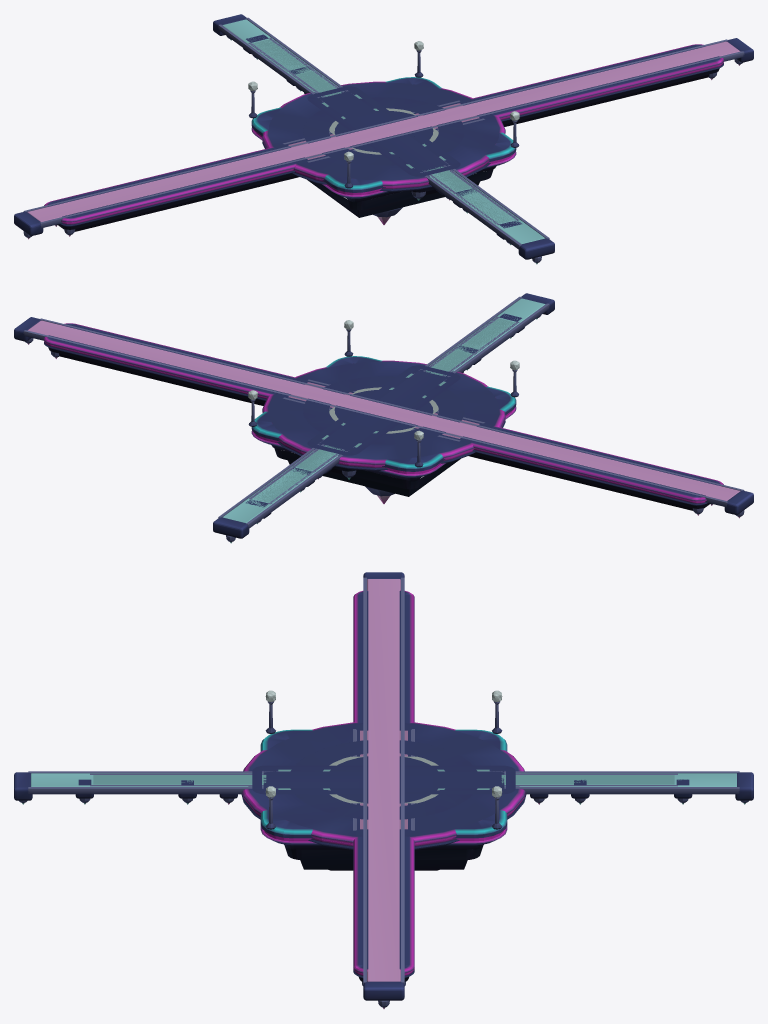
File: core-1-VSdwqLt4.glb
3 views of the same model, one above another, from view 1: azimuth 30°, elevation 25°; view 2: azimuth 150°, elevation 25°; view 3: azimuth 270°, elevation 25° (orthographic). The views are drawn at different scales.
Parts seen in each view (by area): view 1: beam_48x1.5x2#1, block_44x2x3#1, disc_14x1.5#1, beam_2x1.5x36#1, pad_12x2x12#0, block_4x2x13.5#0, disc_10x1.5#1, beam_1.5x1x30#0, block_44x2x2.5_grate#0, beam_1.5x1x20#1, beam_13.100000000000364x1.5x3#0; view 2: beam_48x1.5x2#1, block_44x2x3#1, disc_14x1.5#1, beam_2x1.5x36#1, pad_12x2x12#0, block_4x2x13.5#0, disc_10x1.5#1, beam_1.5x1x30#0, block_44x2x2.5_grate#0, beam_1.5x1x20#1, beam_13.100000000000364x1.5x3#0; view 3: beam_48x1.5x2#1, disc_14x1.5#1, beam_2x1.5x36#1, pad_12x2x12#0, block_4x2x13.5#0, disc_10x1.5#1, block_44x2x3#1, beam_1.5x1x30#0, block_44x2x2.5_grate#0, beam_13.100000000000364x1.5x3#0.
Part boxes in pixels (x1,y1,x2,y2): beam_48x1.5x2#1: [14, 38, 753, 239]; block_44x2x3#1: [44, 44, 724, 236]; disc_14x1.5#1: [262, 81, 505, 224]; beam_2x1.5x36#1: [213, 14, 554, 264]; pad_12x2x12#0: [248, 41, 519, 217]; block_4x2x13.5#0: [307, 86, 460, 200]; disc_10x1.5#1: [303, 97, 464, 165]; beam_1.5x1x30#0: [243, 34, 521, 244]; block_44x2x2.5_grate#0: [48, 46, 719, 217]; beam_1.5x1x20#1: [286, 66, 476, 213]; beam_13.100000000000364x1.5x3#0: [275, 99, 491, 163]; beam_48x1.5x2#1: [14, 317, 753, 518]; block_44x2x3#1: [43, 323, 723, 515]; disc_14x1.5#1: [262, 360, 505, 503]; beam_2x1.5x36#1: [213, 293, 554, 543]; pad_12x2x12#0: [248, 320, 519, 496]; block_4x2x13.5#0: [307, 365, 460, 479]; disc_10x1.5#1: [303, 376, 464, 444]; beam_1.5x1x30#0: [246, 313, 524, 523]; block_44x2x2.5_grate#0: [48, 325, 719, 496]; beam_1.5x1x20#1: [291, 345, 481, 492]; beam_13.100000000000364x1.5x3#0: [276, 378, 492, 442]; beam_48x1.5x2#1: [363, 572, 404, 1008]; disc_14x1.5#1: [241, 722, 526, 849]; beam_2x1.5x36#1: [14, 771, 753, 804]; pad_12x2x12#0: [260, 690, 507, 870]; block_4x2x13.5#0: [252, 765, 515, 794]; disc_10x1.5#1: [290, 740, 477, 819]; block_44x2x3#1: [353, 591, 414, 985]; beam_1.5x1x30#0: [75, 773, 692, 804]; block_44x2x2.5_grate#0: [362, 590, 405, 970]; beam_13.100000000000364x1.5x3#0: [353, 724, 414, 835].
Bounding box in the file's own units: 48 × 8.13 × 36.
